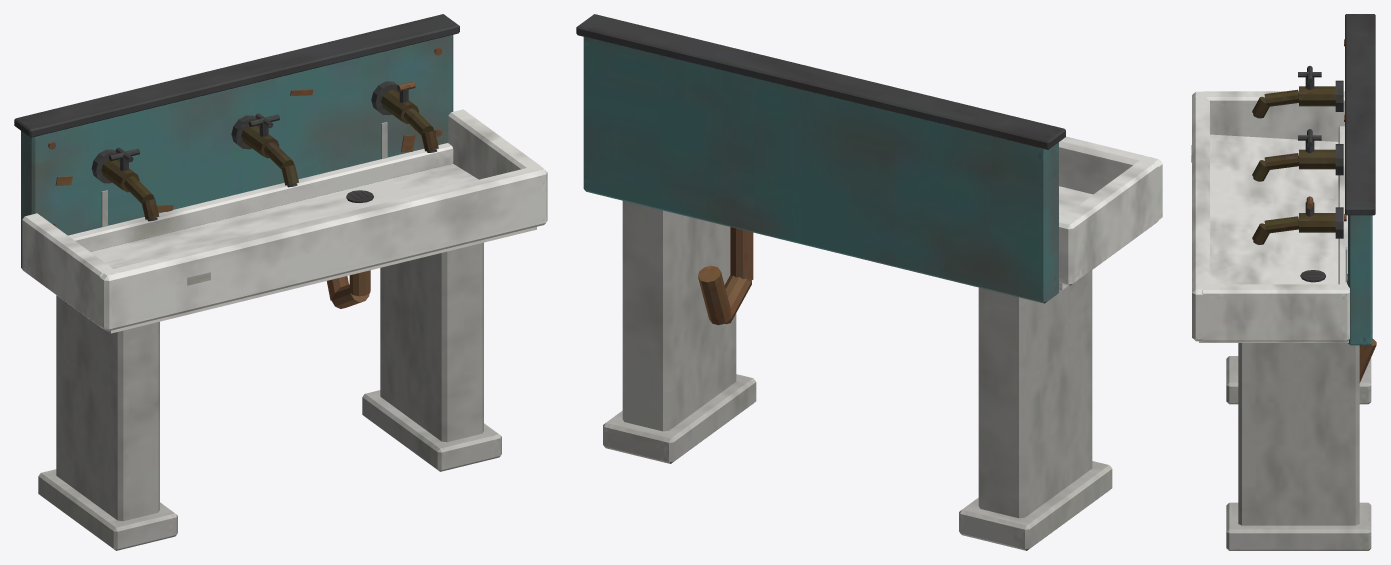
The model's file is SE09_water_tap_row.glb.
The picture shows the model from 3 angles, left to right: view 1: azimuth 30°, elevation 25°; view 2: azimuth 150°, elevation 25°; view 3: azimuth 270°, elevation 25°; orthographic projection. The views are drawn at different scales.
Visible parts, largest first — view 1: Heavy concrete pedestal; view 2: Heavy concrete pedestal; view 3: Heavy concrete pedestal.
Part boxes in pixels (<box>): Heavy concrete pedestal: <box>14,14,547,550</box>; Heavy concrete pedestal: <box>576,14,1162,550</box>; Heavy concrete pedestal: <box>1191,14,1376,550</box>.
Bounding box in the file's own units: 1 × 0.82 × 0.39.
7 materials, 7 textured.
